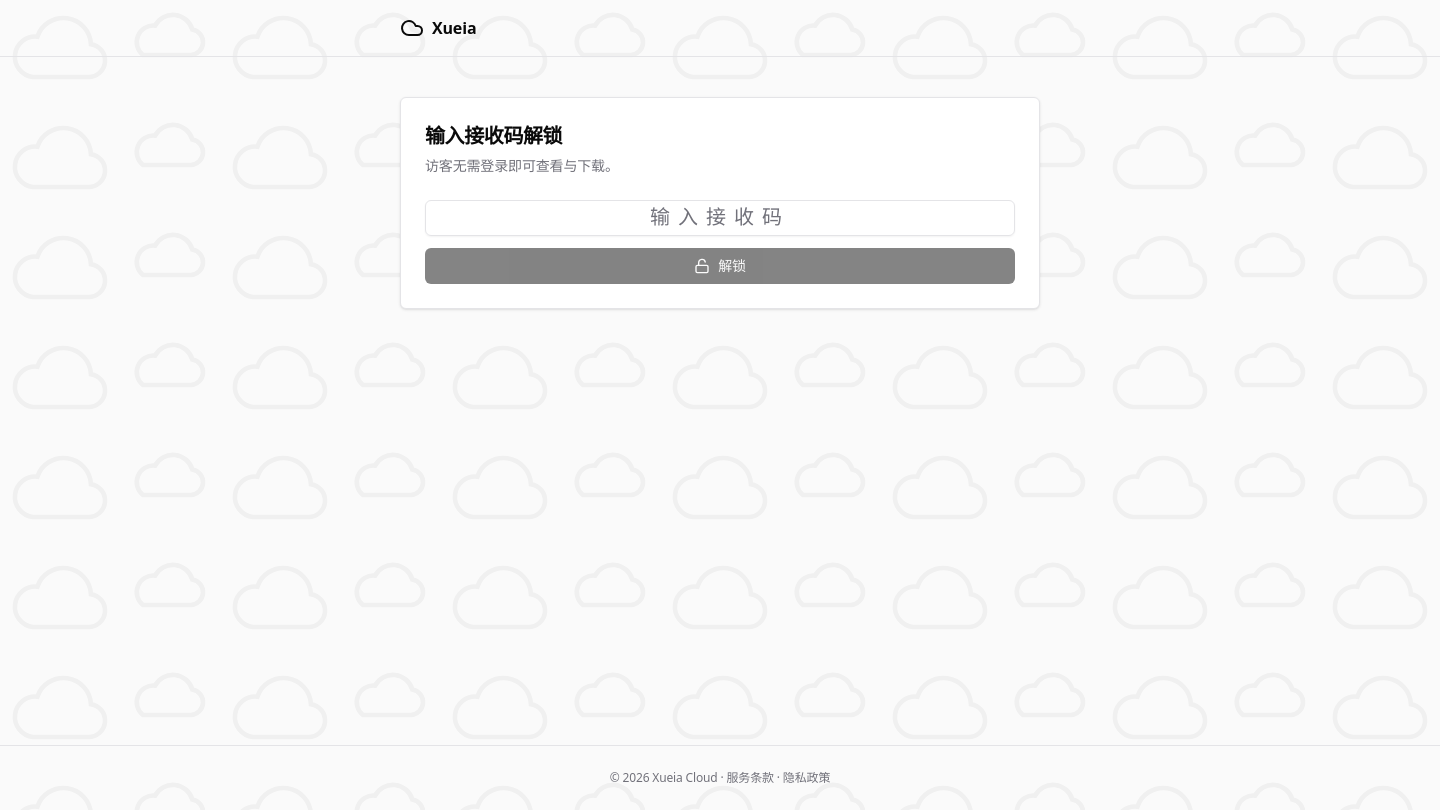
Scenario: PickupPage（游客免登录） › shows a friendly expired state for an unknown code
The width and height of the screenshot is (1440, 810).
Type "ZZZZZZ" into the field.
click(720, 218); type("ZZZZZZ")  # box [425,200,1015,236]
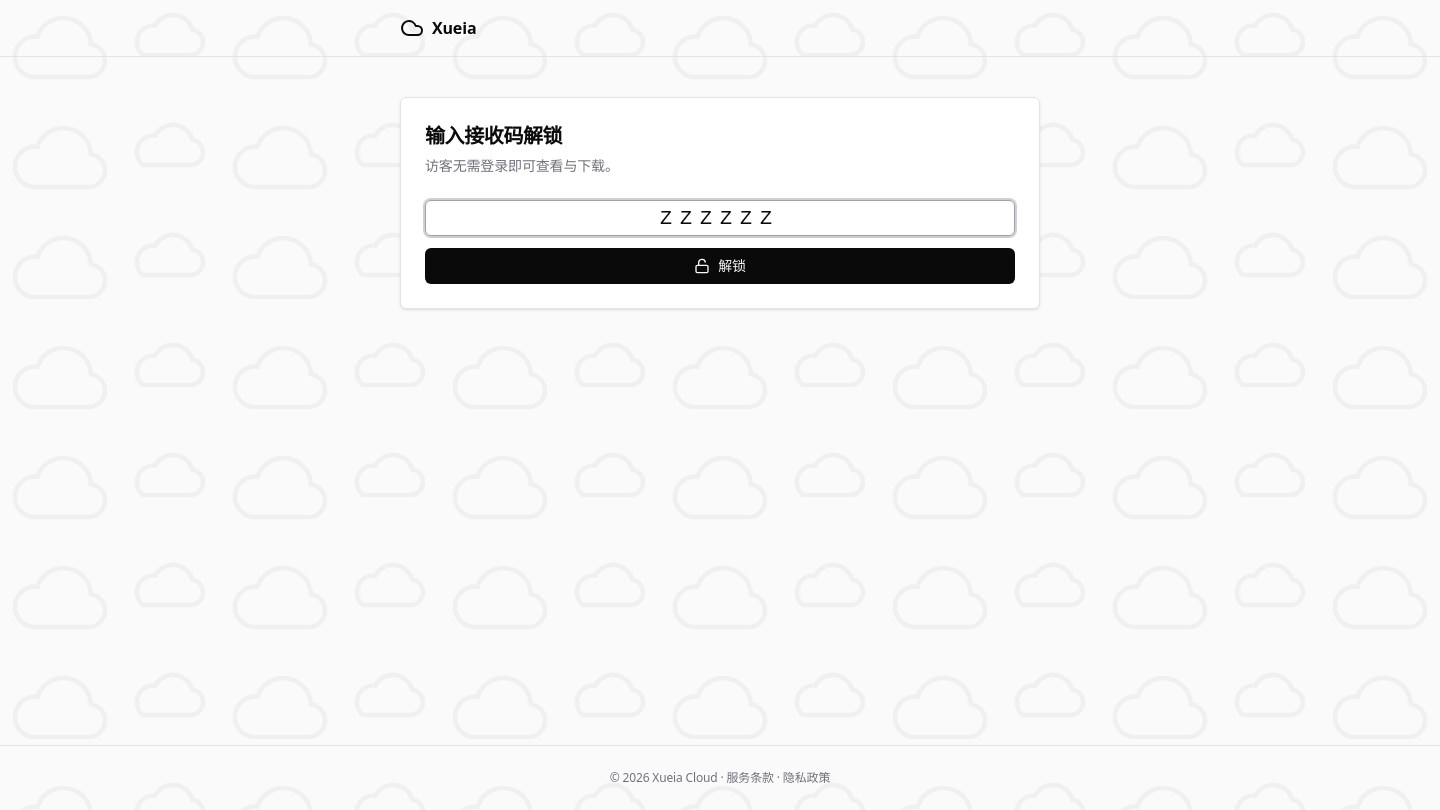
Click the button "解锁".
click(720, 266)  # box [425,248,1015,284]
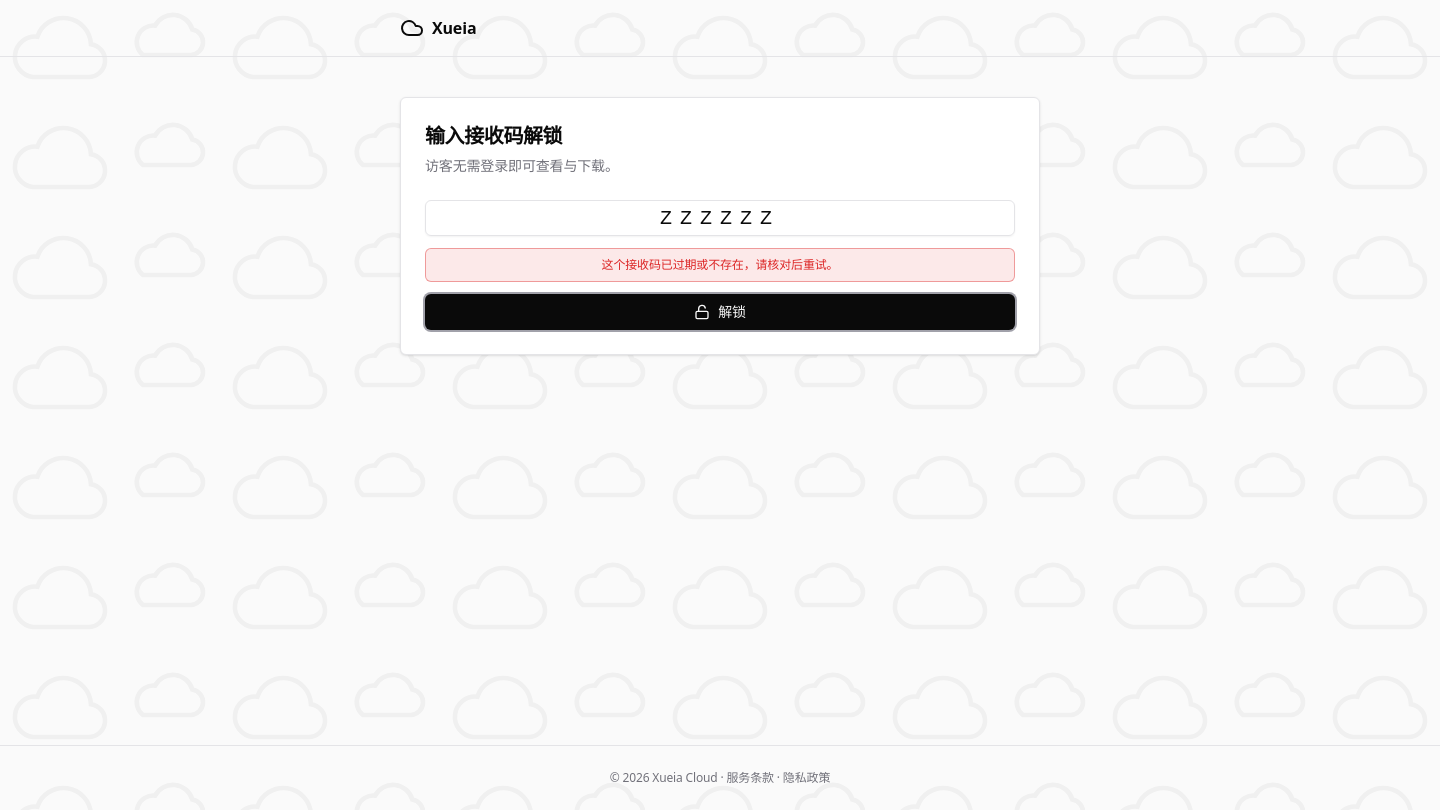
Check: the text "这个接收码已过期或不存在，请核对后重试。" is shown, box [425,248,1015,282]
